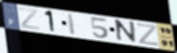1: (43, 10, 57, 35)
5: (89, 17, 110, 39)
I: (67, 12, 77, 36)
N: (115, 19, 138, 45)
Z: (17, 7, 41, 31), (136, 23, 159, 47)
